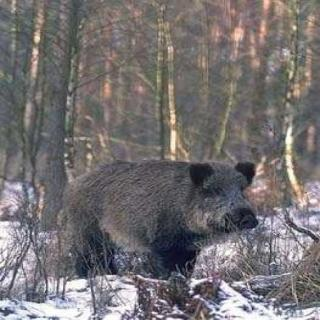Pig: (52, 147, 274, 301)
